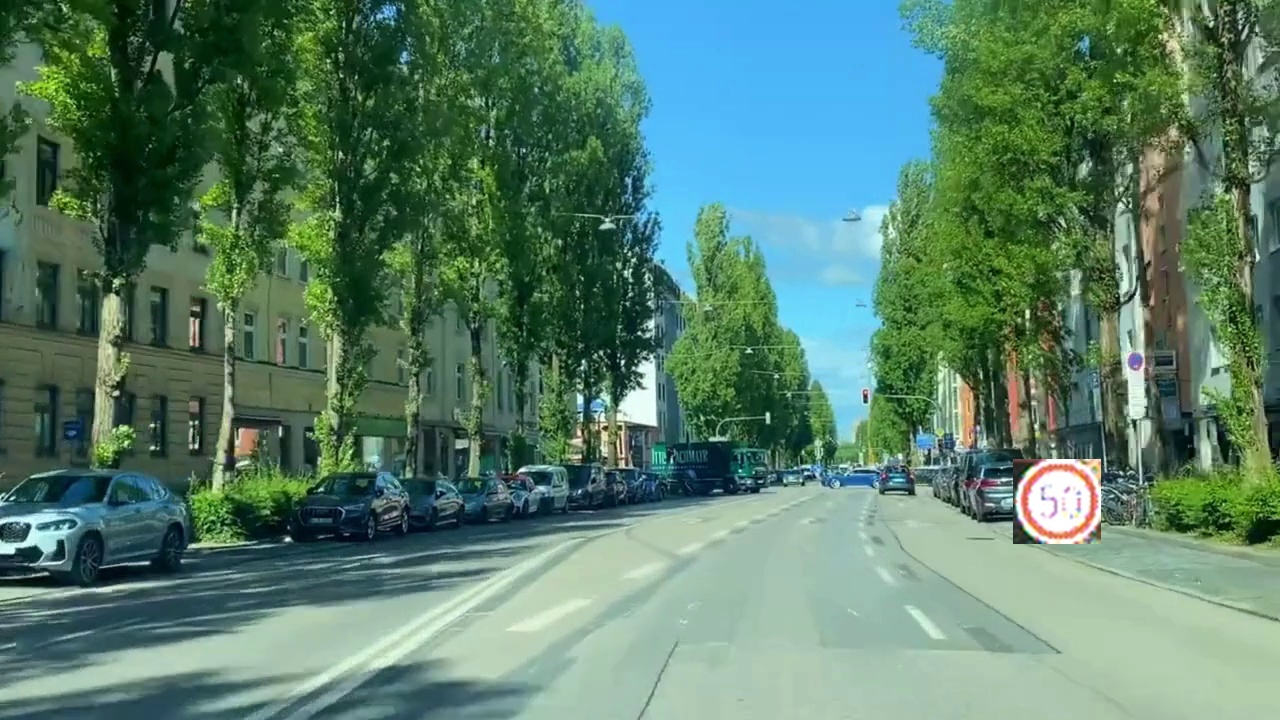Speed 50: (1013, 459, 1101, 544)
